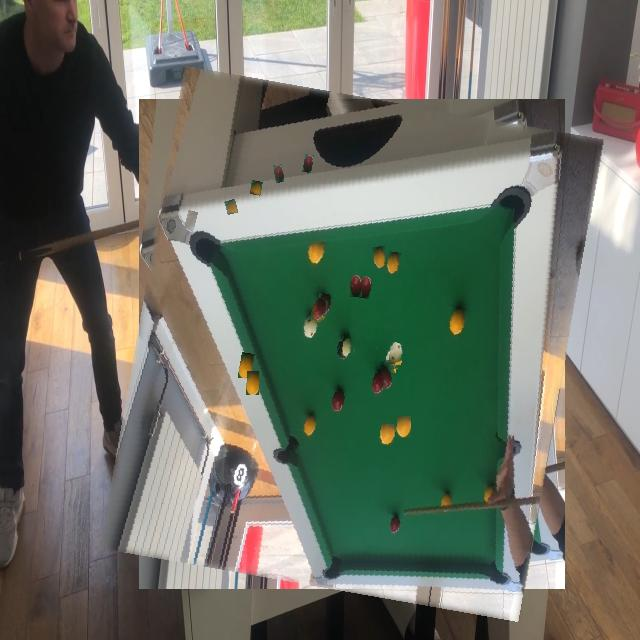Ball: (382, 360, 398, 388), (351, 326, 367, 352), (311, 299, 327, 321), (246, 372, 259, 398), (396, 416, 411, 438), (373, 246, 386, 269), (389, 343, 402, 365), (350, 275, 362, 297), (185, 211, 197, 230), (273, 165, 284, 183), (225, 200, 238, 214)
Billiard table: (120, 82, 585, 606)
